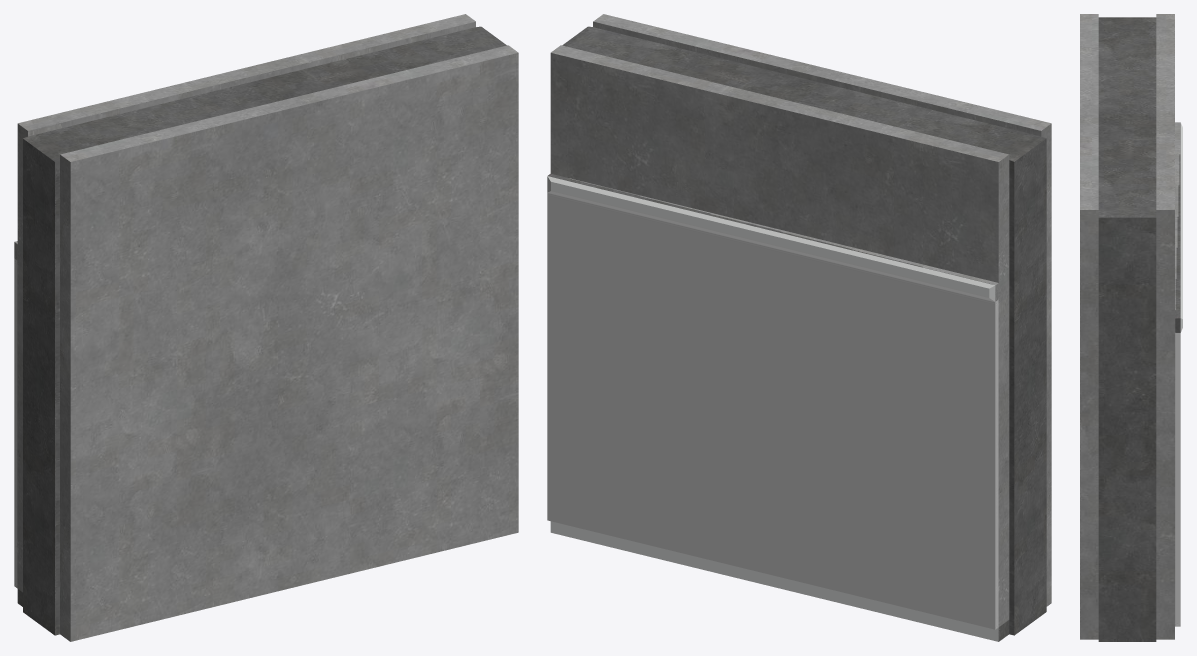
File: whitepanelwall.dae
3 renders of one model, left to right at view 1: azimuth 30°, elevation 25°; view 2: azimuth 150°, elevation 25°; view 3: azimuth 270°, elevation 25°, orthographic. The views are drawn at different scales.
Parts seen in each view (by area): view 1: Cube; view 2: Cube; view 3: Cube.
Part boxes in pixels (x1=…): Cube: x1=14, y1=14, x2=518, y2=641; Cube: x1=547, y1=14, x2=1051, y2=641; Cube: x1=1080, y1=14, x2=1182, y2=641.
Size of the model in its own units: 2 by 0.434 by 2.
1 material, 1 textured.
